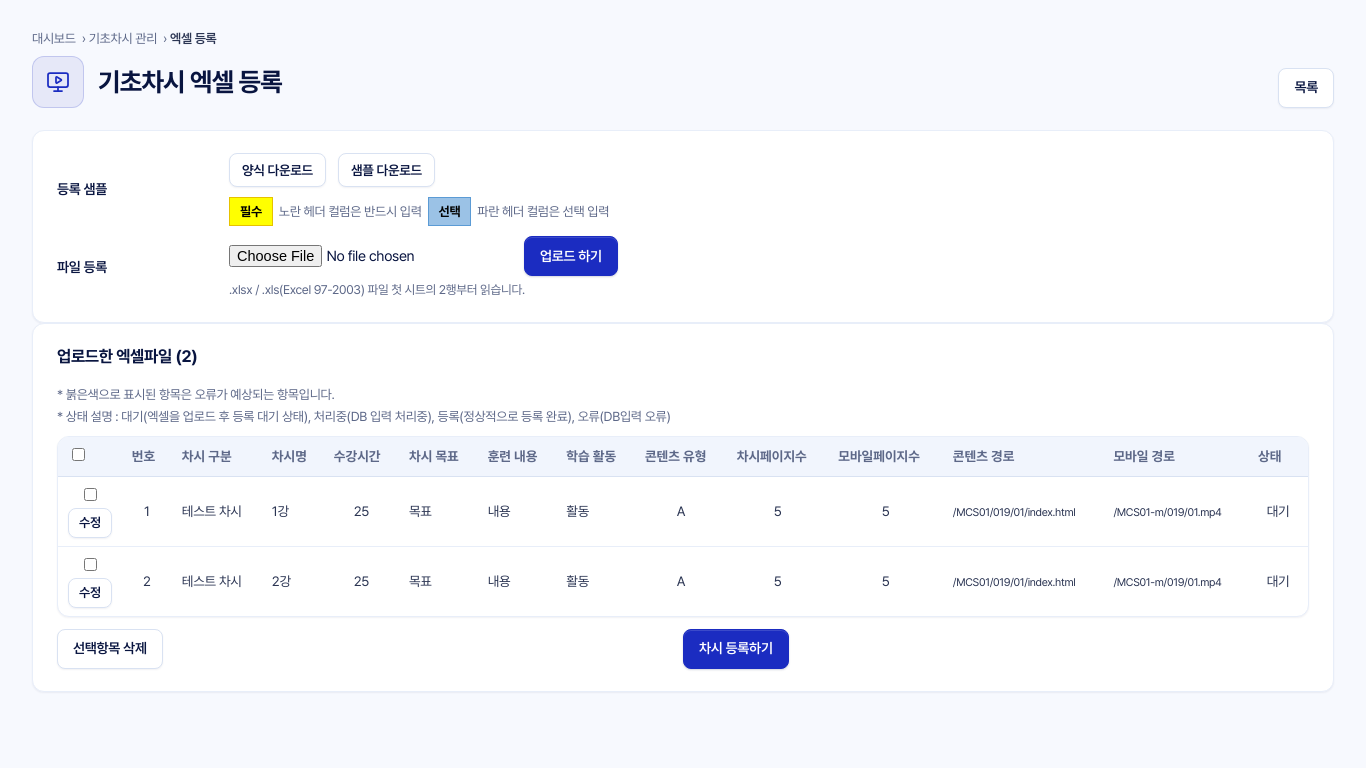
Test case: 엑셀로 등록 screens › 차시 등록하기 registers every row in order and shows 등록 / 오류 per row
Check: the text "2강" is shown, box [262, 546, 324, 616]
Click the button "차시 등록하기" at (736, 649), box [683, 629, 789, 669]
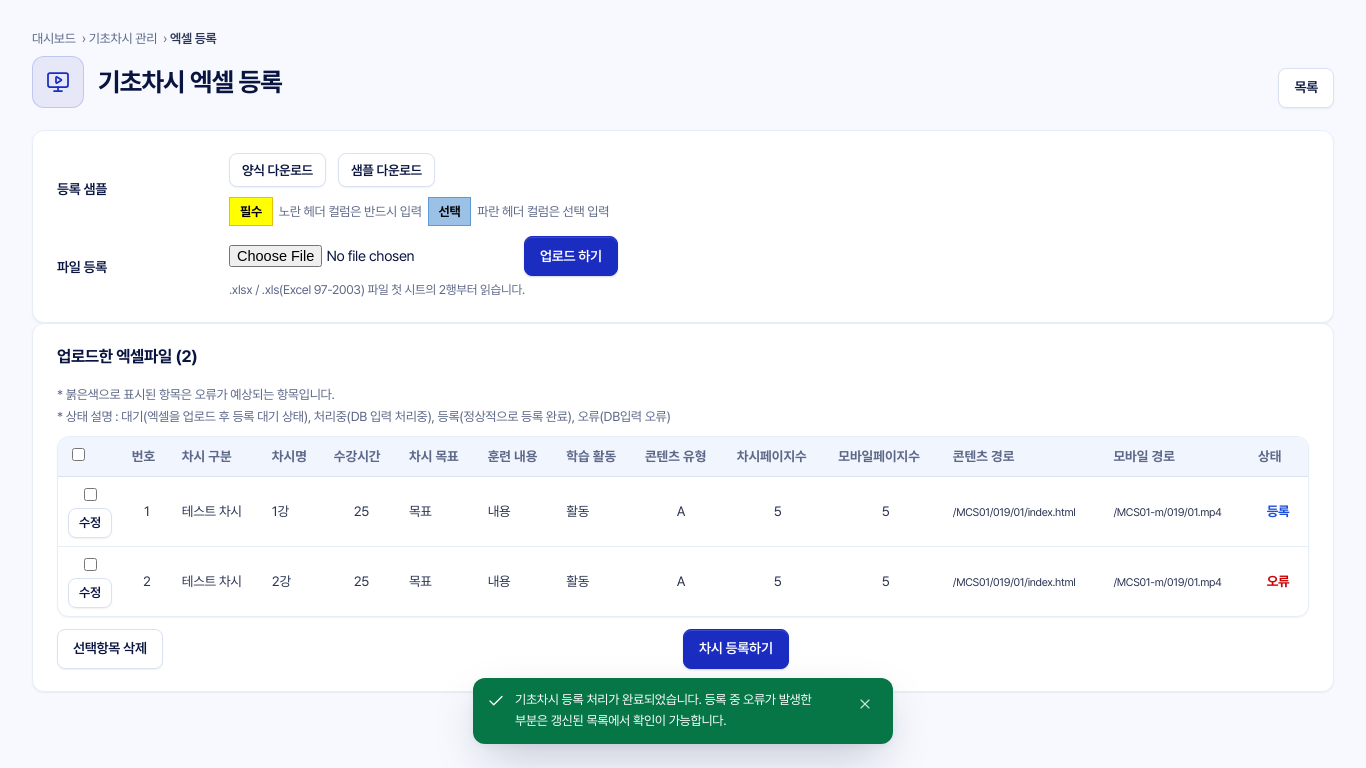
Check: the text "등록" is shown, box [1267, 503, 1289, 519]
Check: the text "오류" is shown, box [1267, 573, 1289, 589]
